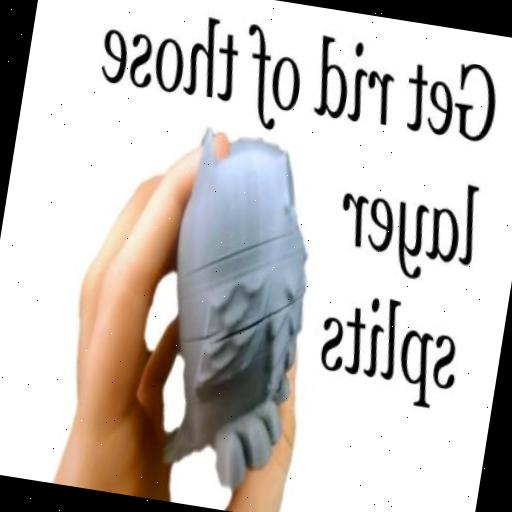cracks: (192, 263, 316, 378)
